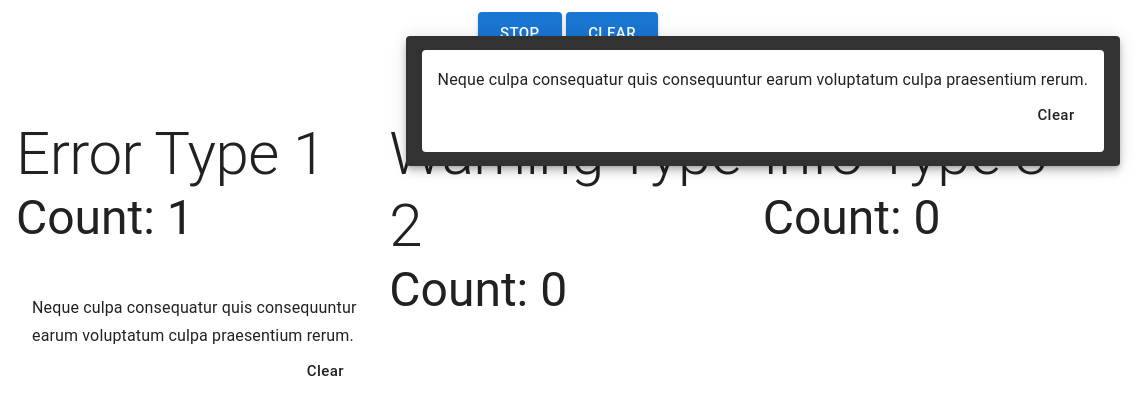
it: clear all messages should set the count in 0 for all lists
Click the button "CLEAR".
click(612, 33)  # box [566,12,658,54]
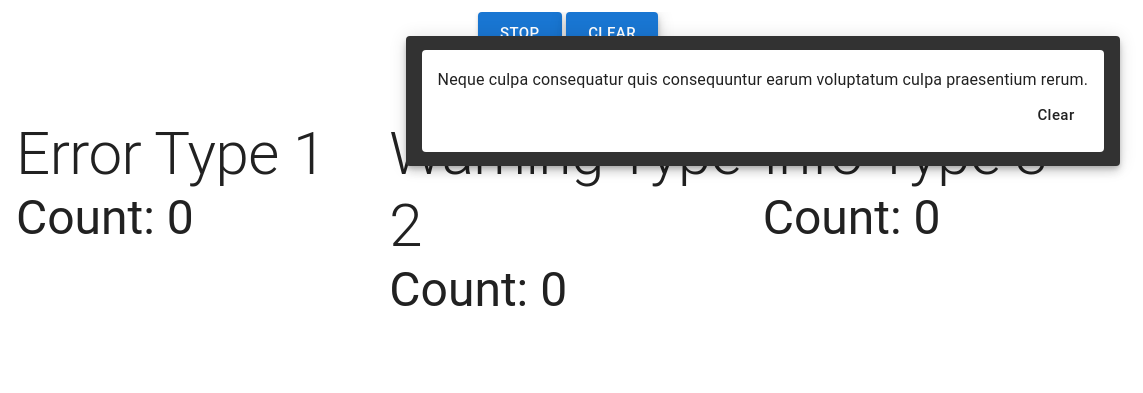
Check: the heading with test id "Warning Type 2_count" reads "Count: 0", box [389,261,567,318]
Check: the heading with test id "Error Type 1_count" reads "Count: 0", box [16,189,194,246]
